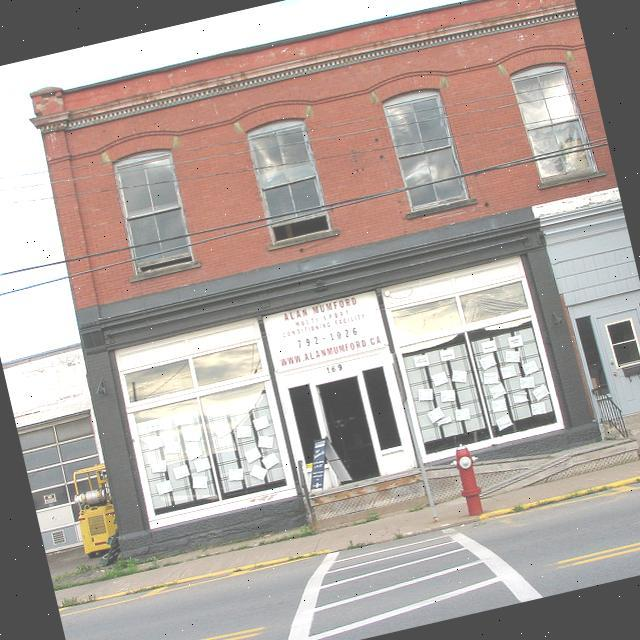fire_hydrant: (446, 440, 490, 517)
